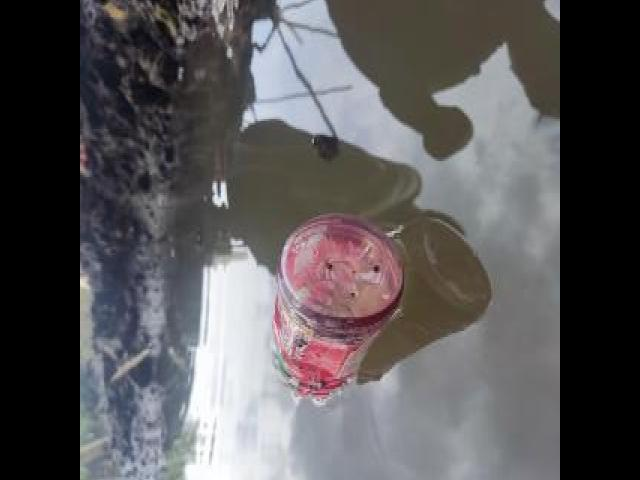Bottle: (266, 206, 412, 413)
